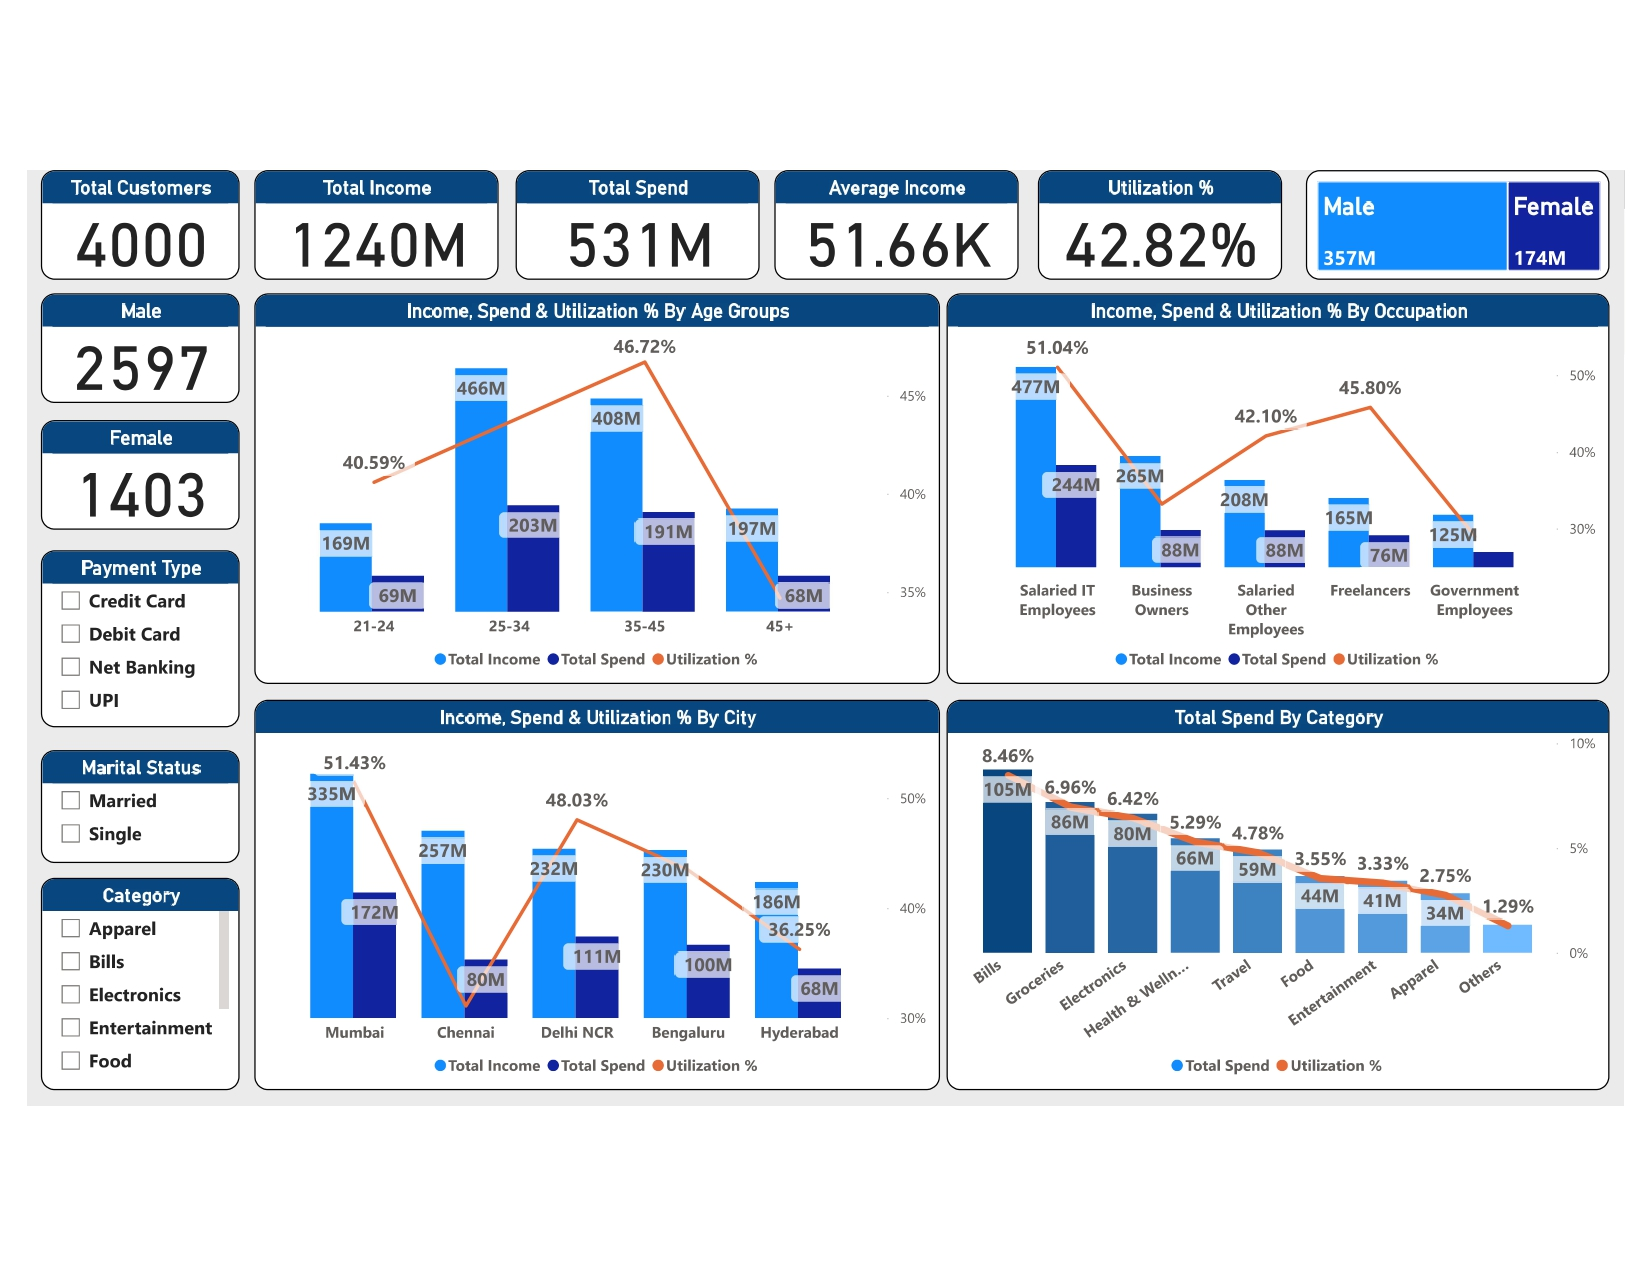

This screenshot's page, from the dashboard's own definition file:
{"tool":"powerbi","page":{"name":"Spend Analysis 1","canvas":[1400,820],"ordinal":1},"visuals":[{"type":"card","title":"Total Customers","fields":{"Values":["Count(dim_customers.customer_id)"]},"box":[11.6,0,174.2,96.2],"z":0},{"type":"card","title":"Male","fields":{"Values":["Sum(dim_customers.Males)"]},"box":[11.6,107.8,174.2,96.2],"z":1000},{"type":"card","title":"Female","fields":{"Values":["Sum(dim_customers.Females)"]},"box":[11.6,219,174.2,96.2],"z":2000},{"type":"card","title":"Average Income","fields":{"Values":["Avg(dim_customers.avg_income)"]},"box":[655.2,0,214,96.2],"z":3000},{"type":"card","title":"Total Income","fields":{"Values":["dim_customers.Total Income"]},"box":[199.1,0,214,96.2],"z":4000},{"type":"card","title":"Total Spend","fields":{"Values":["Sum(fact_spends.spend)"]},"box":[428,0,214,96.2],"z":5000},{"type":"card","title":"Utilization %","fields":{"Values":["dim_customers.Utilization %"]},"box":[885.8,0,214,96.2],"z":6000},{"type":"lineClusteredColumnComboChart","title":"Income, Spend & Utilization % By City","fields":{"Y":["dim_customers.Total Income","Sum(fact_spends.spend)"],"Y2":["dim_customers.Utilization %"],"Category":["dim_customers.city"]},"box":[199.1,464.5,600.5,341.7],"z":7000},{"type":"lineStackedColumnComboChart","title":"Total Spend By Category","fields":{"Y":["Sum(fact_spends.spend)"],"Y2":["dim_customers.Utilization %"],"Category":["fact_spends.category"]},"box":[806.2,464.5,580.6,341.7],"z":8000},{"type":"lineClusteredColumnComboChart","title":"Income, Spend & Utilization % By Age Groups","fields":{"Y":["dim_customers.Total Income","Sum(fact_spends.spend)"],"Y2":["dim_customers.Utilization %"],"Category":["dim_customers.age_group"]},"box":[199.1,107.8,600.5,341.7],"z":9000},{"type":"lineClusteredColumnComboChart","title":"Income, Spend & Utilization % By Occupation","fields":{"Y":["dim_customers.Total Income","Sum(fact_spends.spend)"],"Y2":["dim_customers.Utilization %"],"Category":["dim_customers.occupation"]},"box":[806.2,107.8,580.6,341.7],"z":10000},{"type":"treemap","title":"Utilization %","fields":{"Group":["dim_customers.gender"],"Values":["Sum(fact_spends.spend)"]},"box":[1121.3,0,265.4,96.2],"z":11000},{"type":"slicer","title":"Payment Type","fields":{"Values":["fact_spends.payment_type"]},"box":[11.6,333.4,174.2,154.3],"z":11001},{"type":"slicer","title":"Marital Status","fields":{"Values":["dim_customers.marital status"]},"box":[11.6,507.6,174.2,99.5],"z":11003},{"type":"slicer","title":"Category","fields":{"Values":["fact_spends.category"]},"box":[11.6,620.4,174.2,185.8],"z":11004}]}

Visuals, with their boxes on the page's 1400x820 design canvas (x1, y1, x2, y2). These are canvas units, not pixel positions in the 1650x1275 screenshot, which may show the page scaled, cropped or inside an application window:
"Total Customers" card: locate(12, 0, 186, 96)
"Male" card: locate(12, 108, 186, 204)
"Female" card: locate(12, 219, 186, 315)
"Average Income" card: locate(655, 0, 869, 96)
"Total Income" card: locate(199, 0, 413, 96)
"Total Spend" card: locate(428, 0, 642, 96)
"Utilization %" card: locate(886, 0, 1100, 96)
"Income, Spend & Utilization % By City" lineClusteredColumnComboChart: locate(199, 464, 800, 806)
"Total Spend By Category" lineStackedColumnComboChart: locate(806, 464, 1387, 806)
"Income, Spend & Utilization % By Age Groups" lineClusteredColumnComboChart: locate(199, 108, 800, 450)
"Income, Spend & Utilization % By Occupation" lineClusteredColumnComboChart: locate(806, 108, 1387, 450)
"Utilization %" treemap: locate(1121, 0, 1387, 96)
"Payment Type" slicer: locate(12, 333, 186, 488)
"Marital Status" slicer: locate(12, 508, 186, 607)
"Category" slicer: locate(12, 620, 186, 806)
